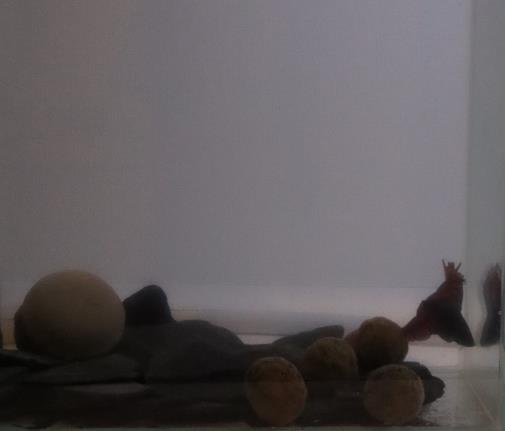fish: (403, 254, 477, 352)
